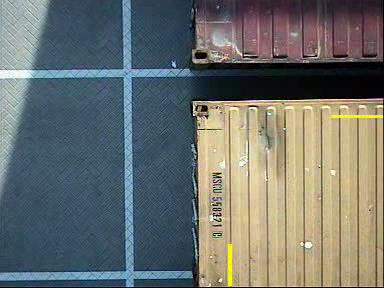groundmarker_2: (108, 237, 170, 269), (105, 86, 168, 117)
